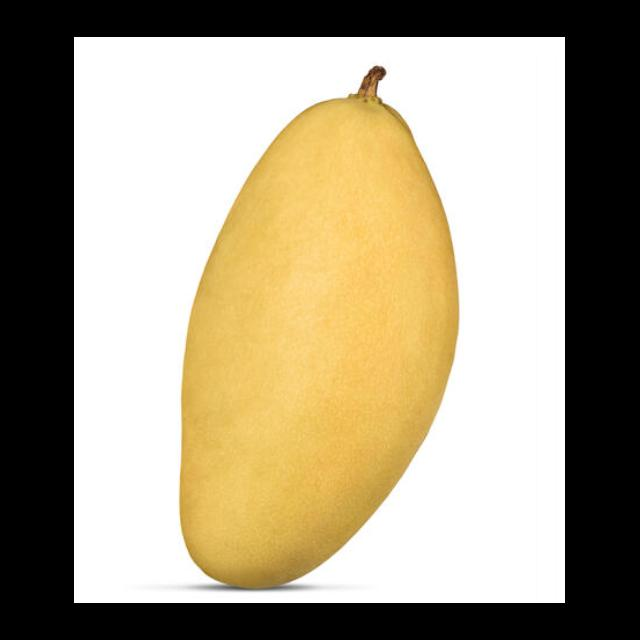mango: (179, 95, 462, 590)
